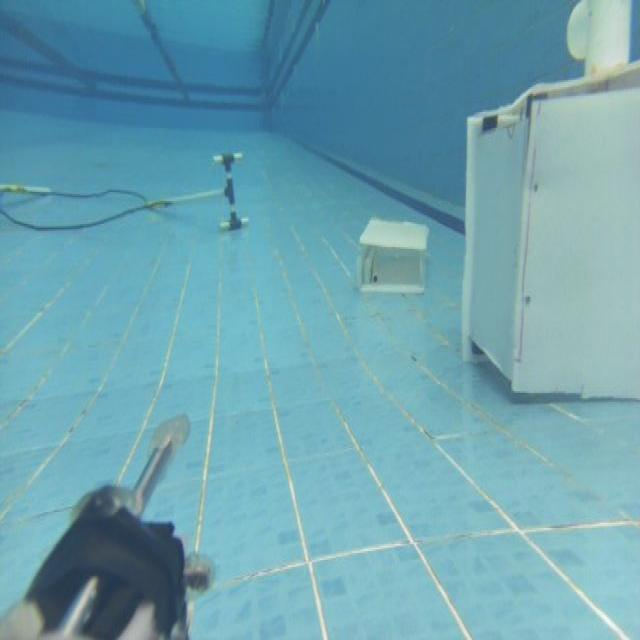Cube: (458, 56, 640, 410)
Cuboid: (356, 215, 429, 293)
